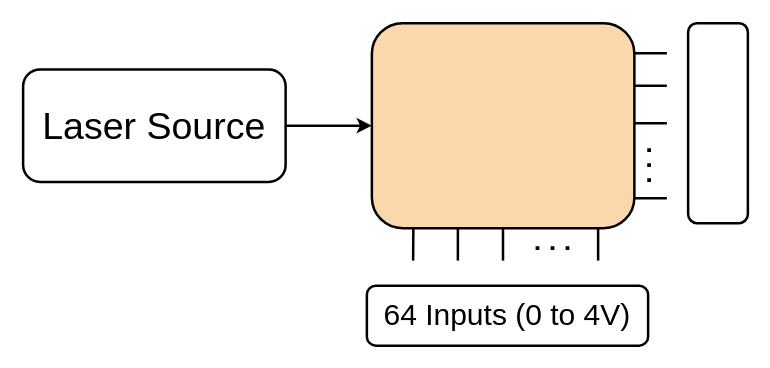
Image size: 770x368. Some labels were removed from this diagram. Here are the shapes that lost their labels. From the top down, the centre of each, then its label:
At point 502,125: "PIC".
At point 717,122: "10 Outputs".
